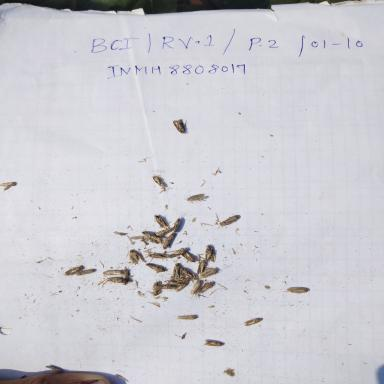pbw: (215, 214, 241, 230), (124, 247, 145, 266), (280, 284, 310, 296), (140, 227, 162, 243), (144, 278, 162, 297), (202, 243, 219, 263), (197, 280, 217, 296), (171, 118, 190, 134), (150, 174, 169, 190), (198, 267, 221, 280), (184, 192, 208, 204), (171, 212, 184, 234), (180, 250, 200, 264), (0, 178, 20, 192), (241, 316, 264, 328), (153, 214, 170, 230), (64, 264, 86, 276), (152, 226, 174, 238), (179, 266, 197, 280), (173, 312, 198, 322), (169, 246, 188, 259), (146, 262, 168, 273), (163, 232, 177, 249), (202, 338, 225, 348), (119, 268, 133, 284), (190, 280, 204, 296), (148, 251, 170, 261), (103, 276, 127, 285), (167, 274, 191, 283), (75, 267, 96, 277), (195, 260, 208, 276), (156, 282, 176, 292), (172, 280, 188, 292), (164, 278, 188, 286), (171, 263, 182, 280), (103, 269, 125, 276)
